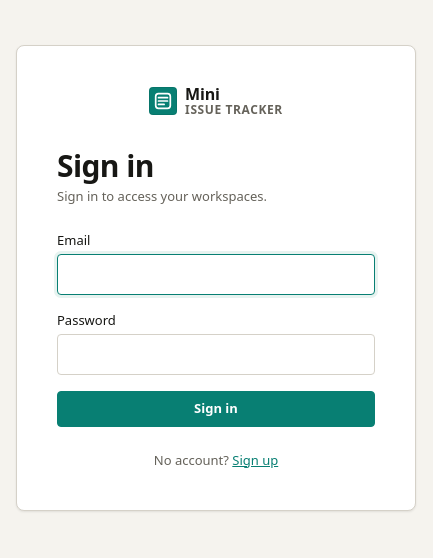
Test case: LoginPage › associates field-level errors with the offending input via aria-describedby
Type "bad@example.com" into the field labelled "Email" at [216, 274], box [57,254,375,295]
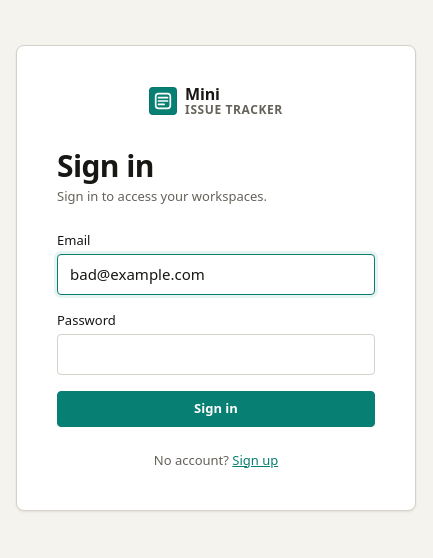
Type "secret123" into the password field labelled "Password" at [216, 354], box [57,334,375,375]
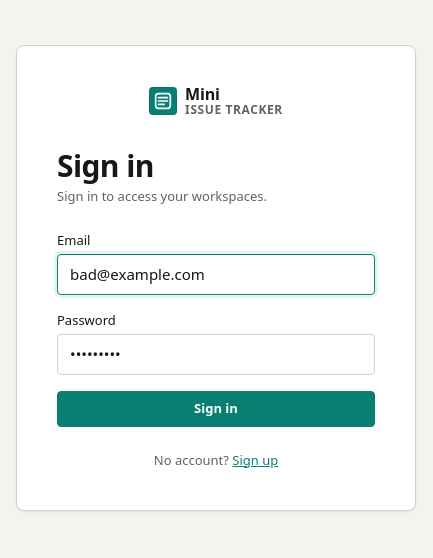
Click the button "Sign in" at [216, 409], box [57,391,375,427]
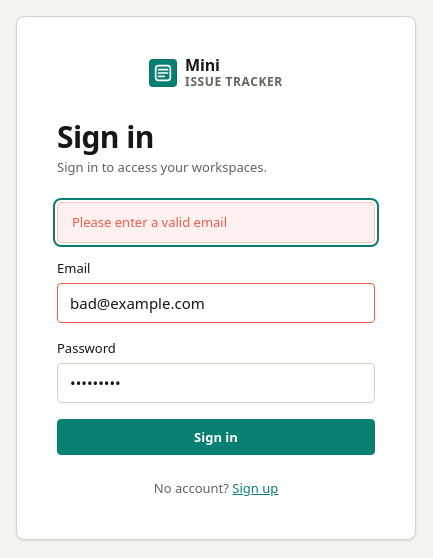
Now the message reads "Please enter a valid email", box [72,213,227,231]
